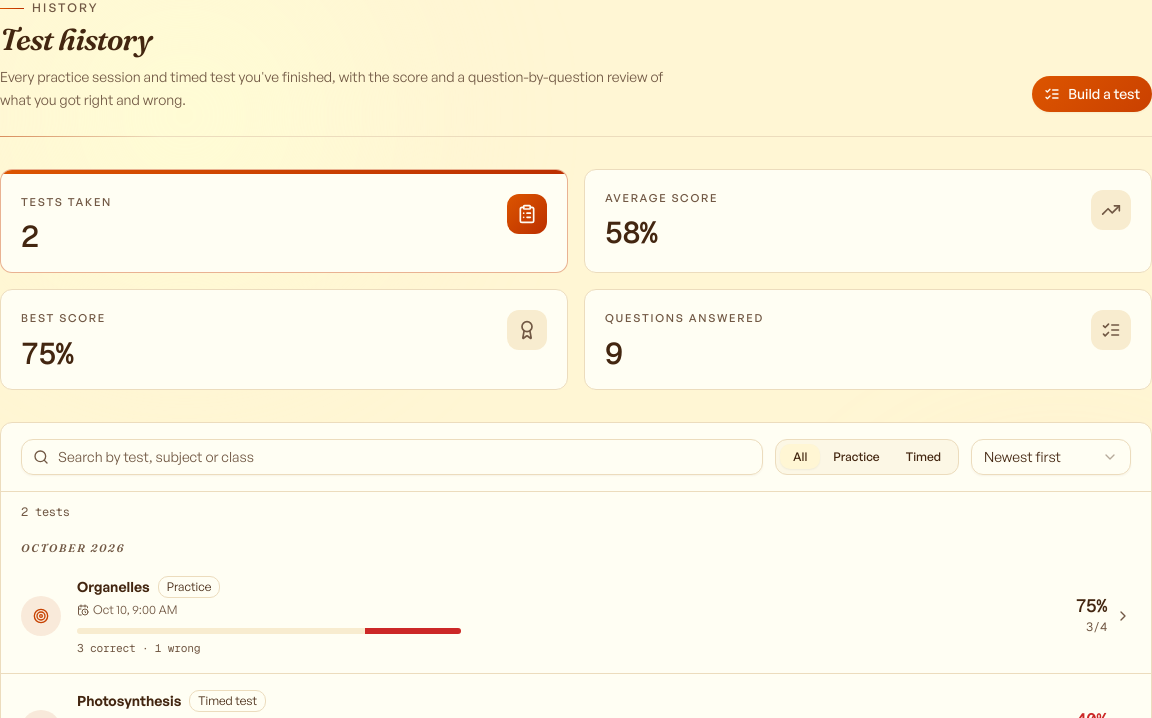
TestHistory › narrows the list by search and by mode
Expected: the text "Organelles" is shown, [77, 577, 150, 597]
Type "photo" into the search field named "Search tests" at {"x": 392, "y": 456}, box [21, 438, 763, 474]
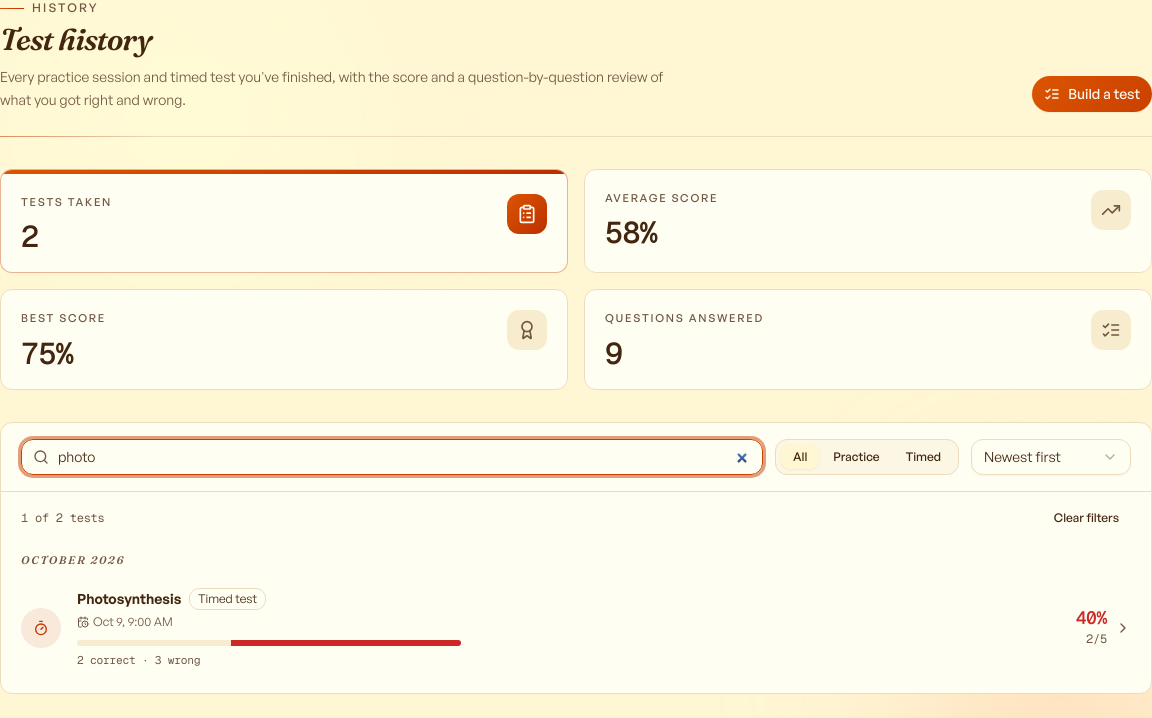
Result: the text "1 of 2 tests" is shown at [21, 510, 104, 526]
Result: the link "Organelles" is gone
Clear the search field named "Search tests" at {"x": 392, "y": 456}, box [21, 438, 763, 474]
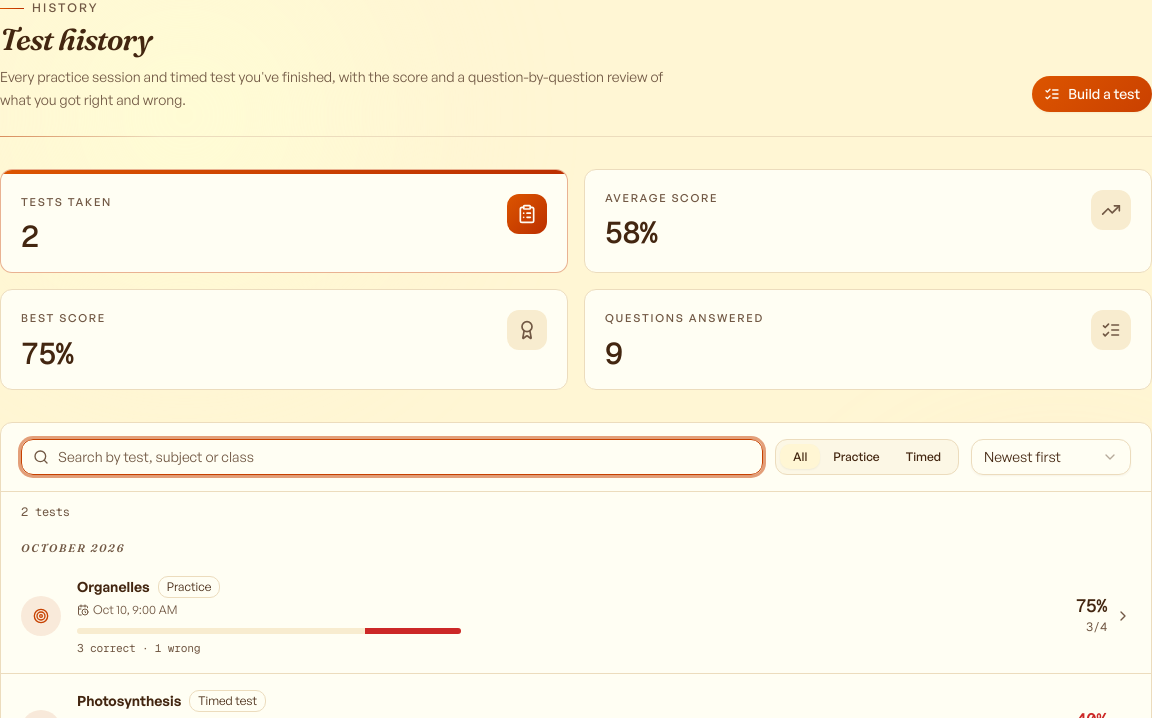
Click the tab "Practice" at {"x": 856, "y": 456}, box [820, 444, 893, 469]
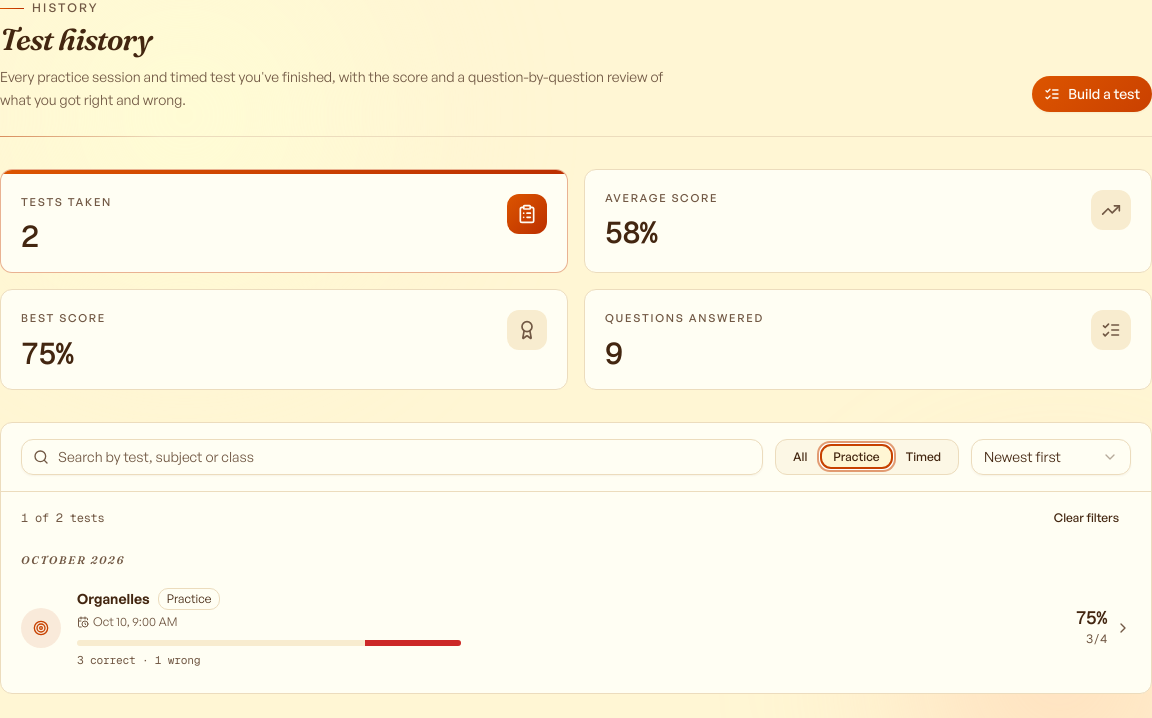
Result: the text "Organelles" is shown at [77, 589, 150, 609]
Result: the link "Photosynthesis" is gone
Type "zzz" into the search field named "Search tests" at {"x": 392, "y": 456}, box [21, 438, 763, 474]
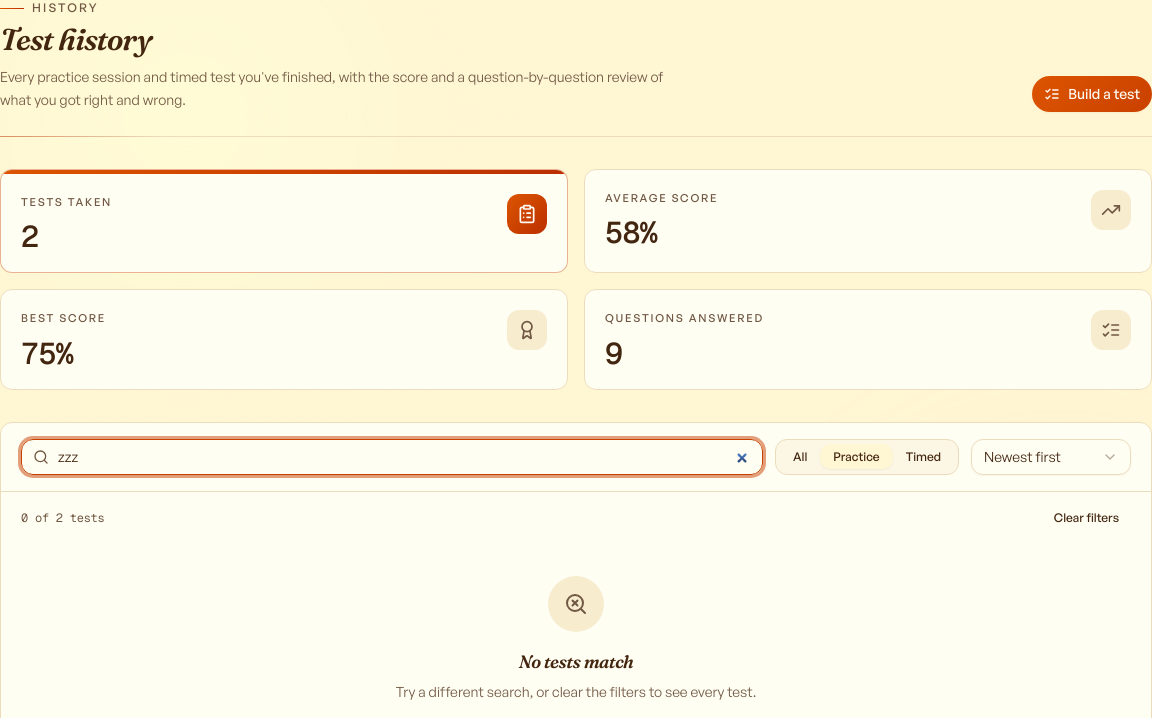
Result: the heading "No tests match" is shown at [519, 648, 633, 676]
Click the button "Clear filters" at {"x": 1086, "y": 518}, box [1042, 504, 1131, 532]
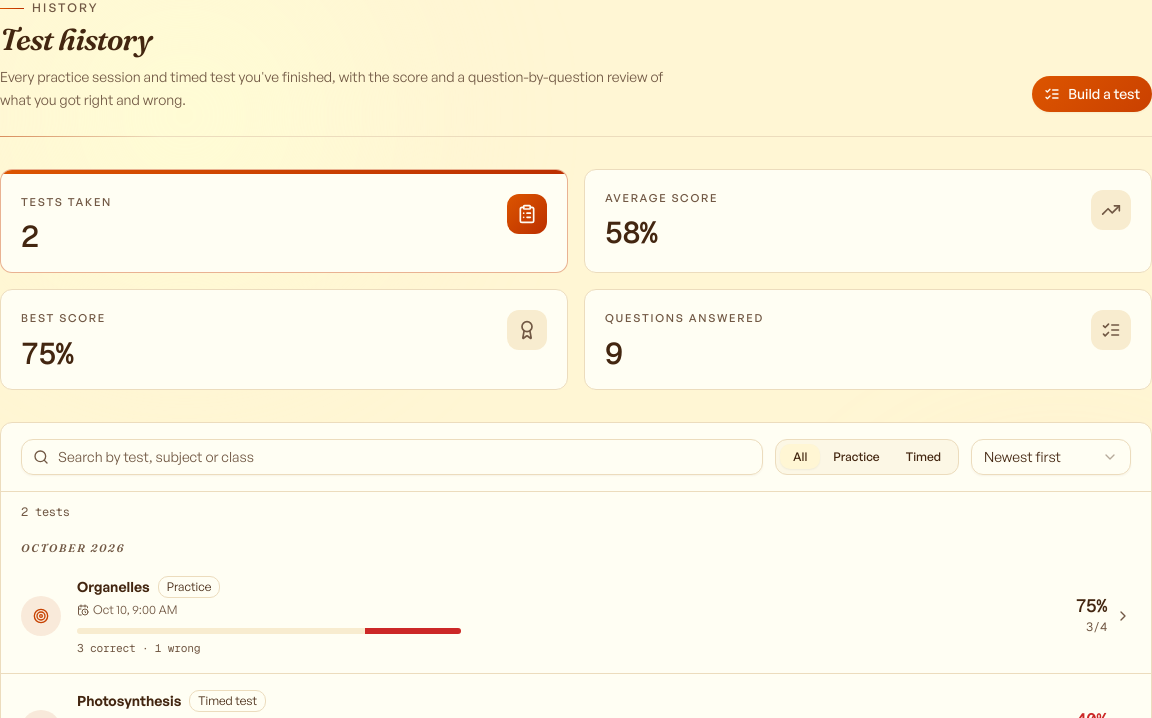
Result: the text "Photosynthesis" is shown at [77, 691, 181, 711]
